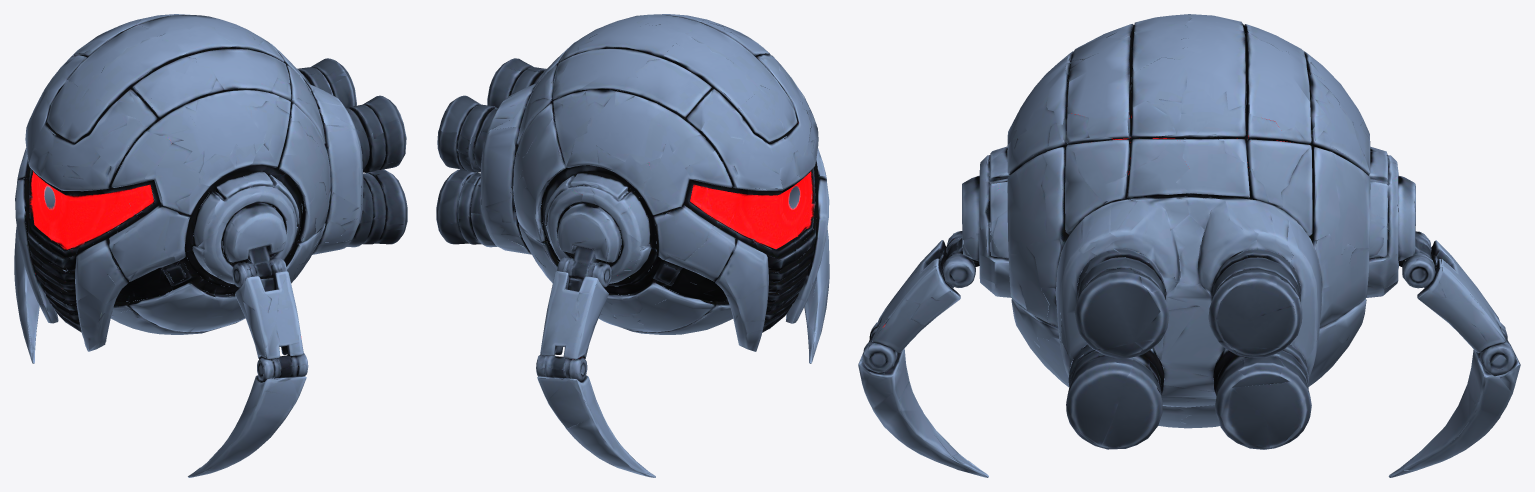
File: enemy_scout.glb
The picture shows the model from 3 angles, left to right: view 1: azimuth 30°, elevation 25°; view 2: azimuth 150°, elevation 25°; view 3: azimuth 270°, elevation 25°; orthographic projection. The views are drawn at different scales.
Visible parts, largest first — view 1: EnemyScout; view 2: EnemyScout; view 3: EnemyScout.
Boxes of the visible parts, x1=… form: EnemyScout: x1=14, y1=14, x2=407, y2=477; EnemyScout: x1=436, y1=14, x2=829, y2=477; EnemyScout: x1=858, y1=14, x2=1520, y2=477.
Size of the model in its own units: 1.4 by 1.54 by 1.9.
1 material, 1 textured.
